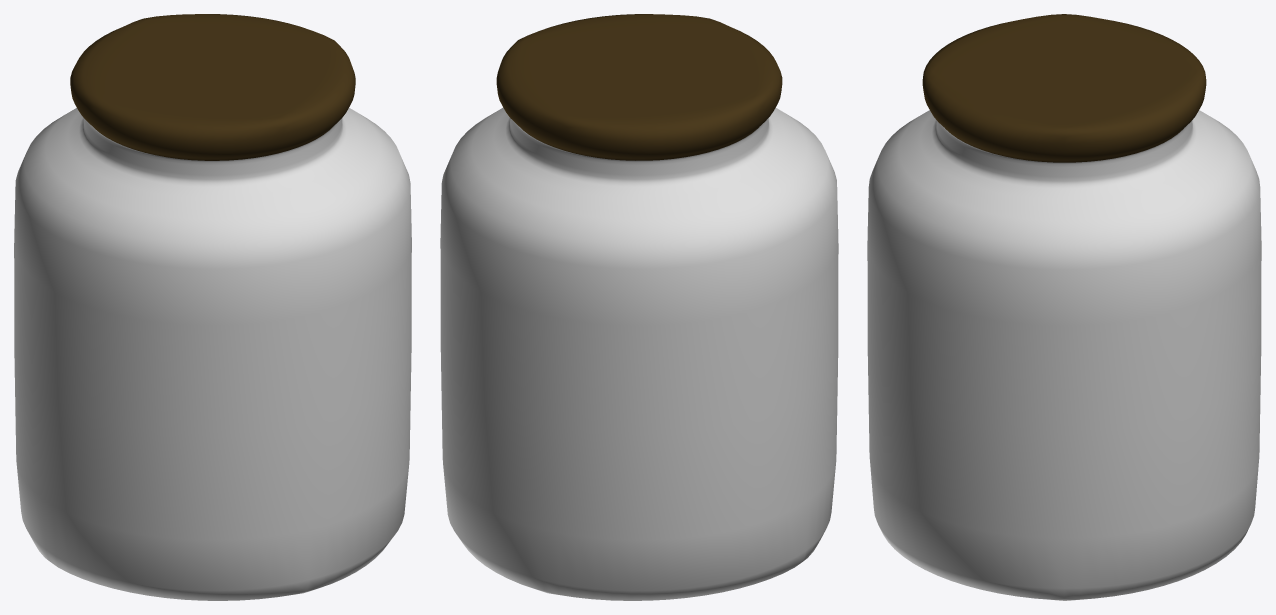
Rendered from Recipiente.fbx.
3 renders of one model, left to right at view 1: azimuth 30°, elevation 25°; view 2: azimuth 150°, elevation 25°; view 3: azimuth 270°, elevation 25°, orthographic.
Parts seen in each view (by area): view 1: Exterior; view 2: Exterior; view 3: Exterior.
Part boxes in pixels (bbox=[...]): Exterior: bbox=[14, 14, 411, 600]; Exterior: bbox=[440, 14, 838, 600]; Exterior: bbox=[867, 14, 1261, 600].
Size of the model in its own units: 199 by 253 by 199.
